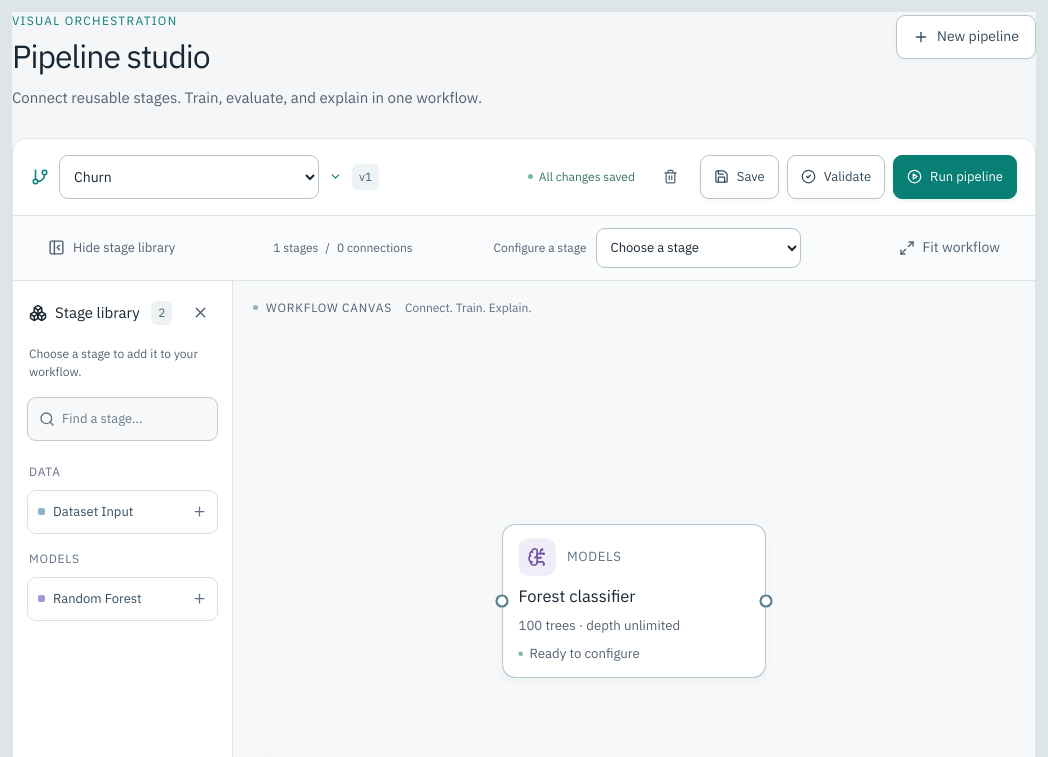
Test: pipeline keyboard interactions › returns focus to the stage after closing settings and allows keyboard reopening
Press Enter in the element with test id "rf__node-forest", box [502,524,766,677]
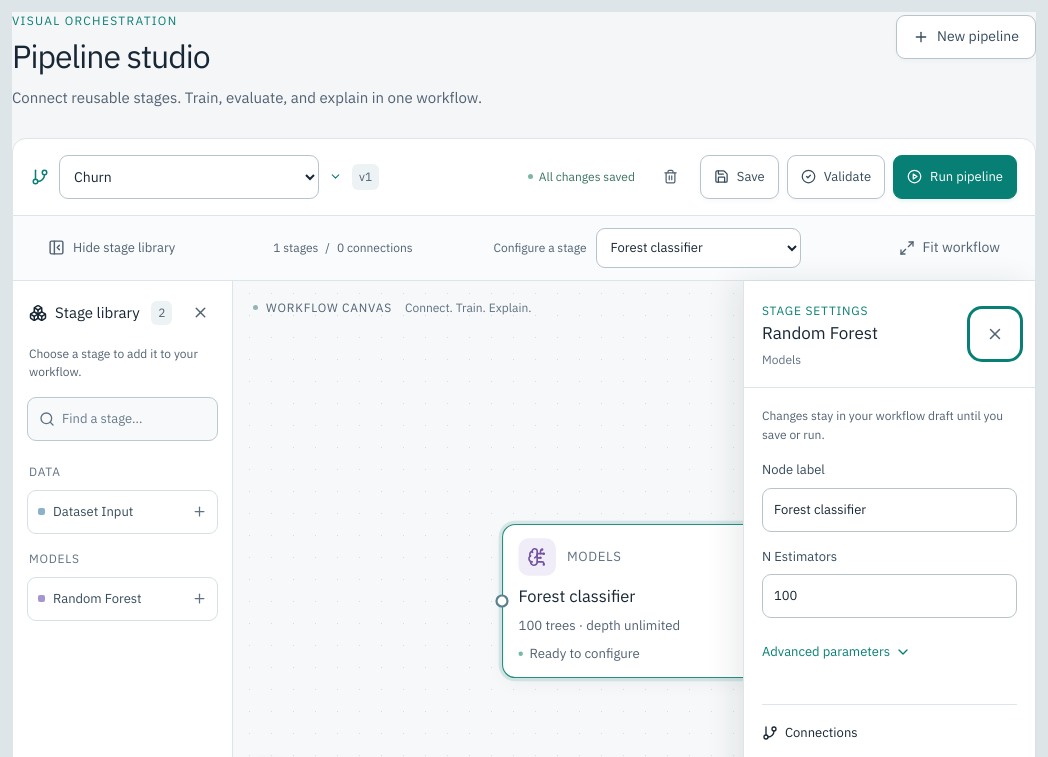
Expected: the field labelled "Node label" is shown, [762,488,1017,532]
Click the button named "Close node settings" at (995,334), box [973,312,1017,356]
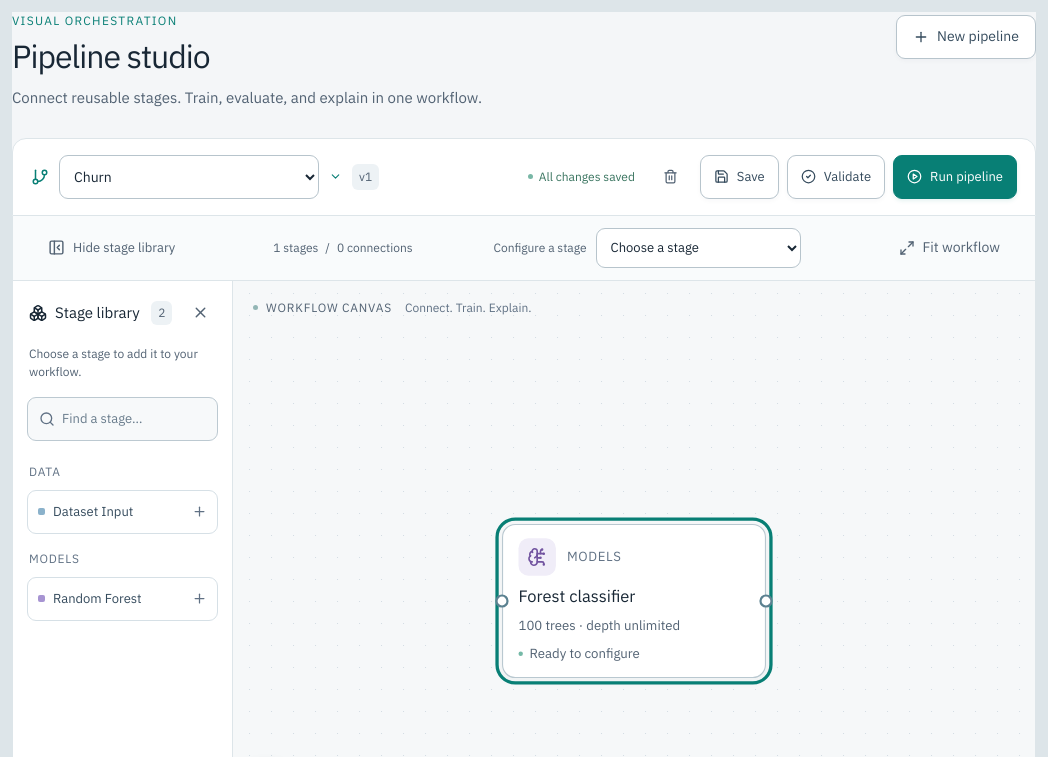
Expected: the text labelled "Node label" is gone
Press Enter in the element with test id "rf__node-forest", box [502,524,766,677]
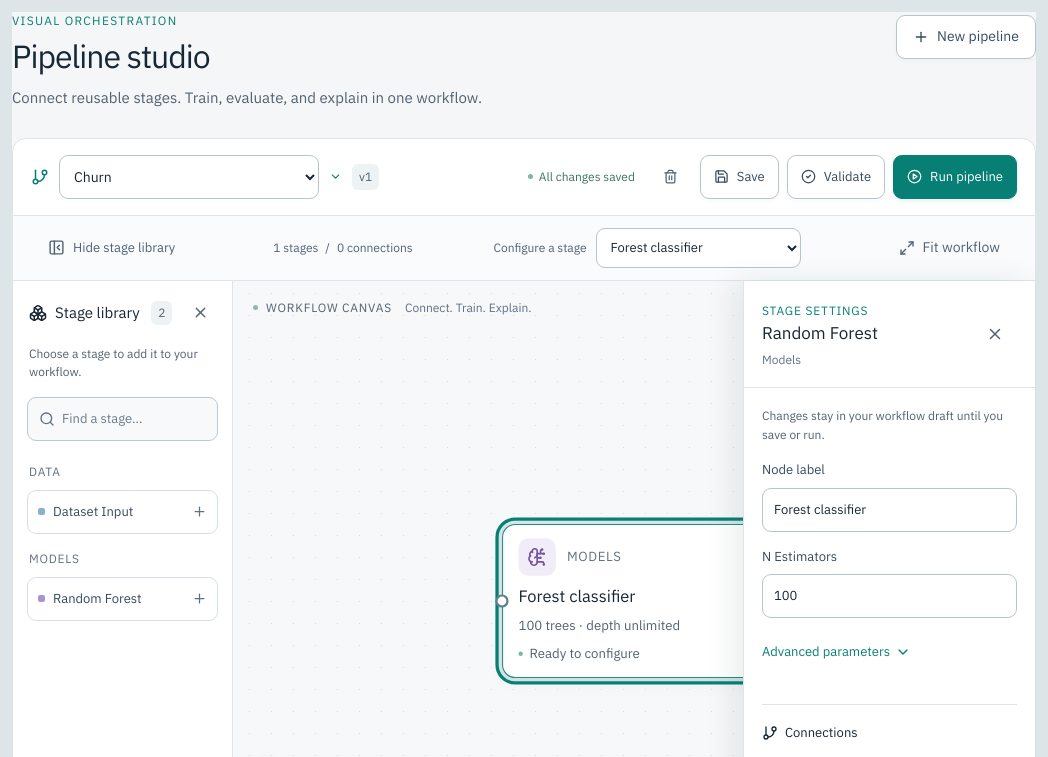
Expected: the field labelled "Node label" holds "Forest classifier", [762,488,1017,532]
